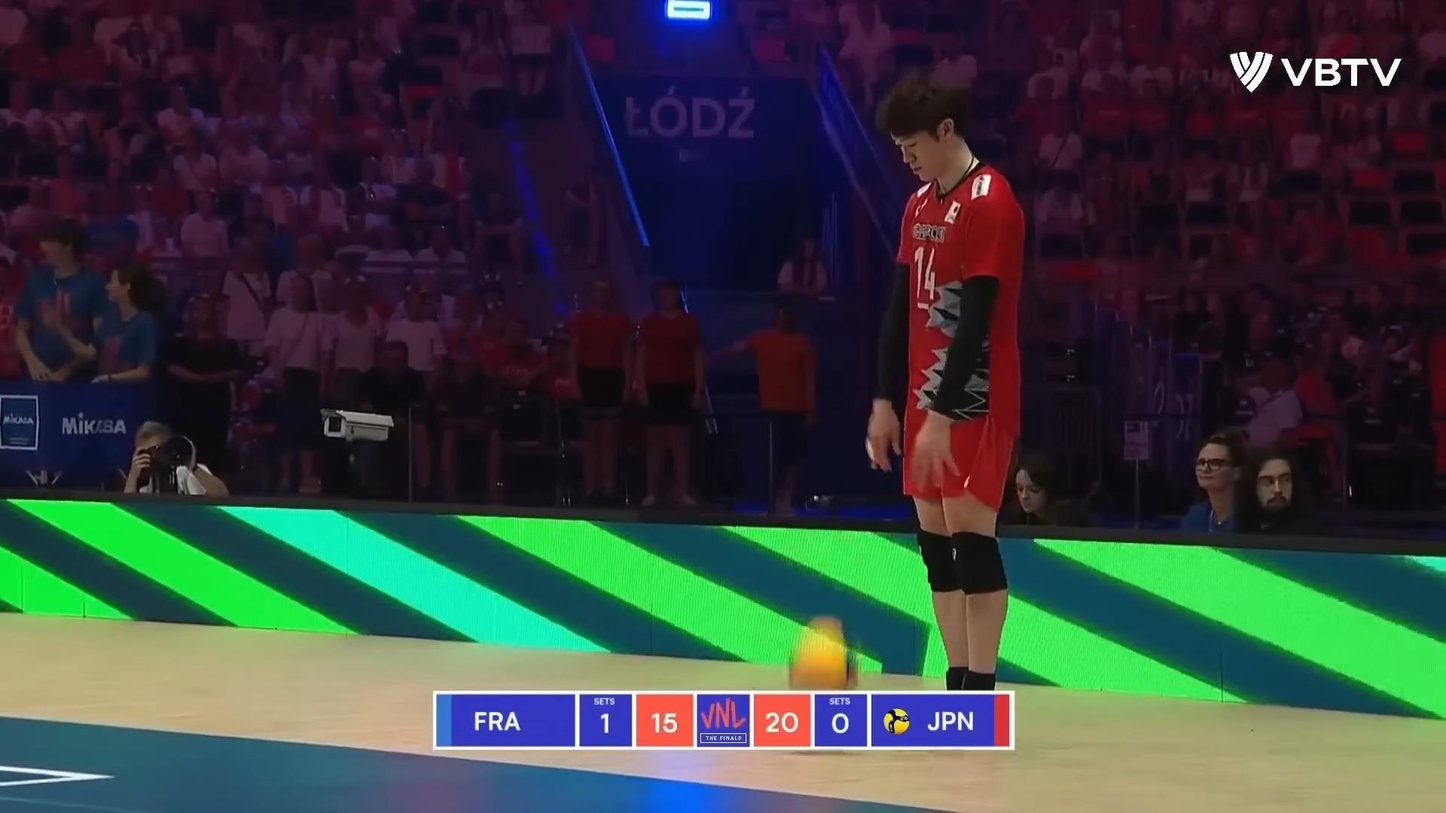ball: (778, 616, 863, 691)
